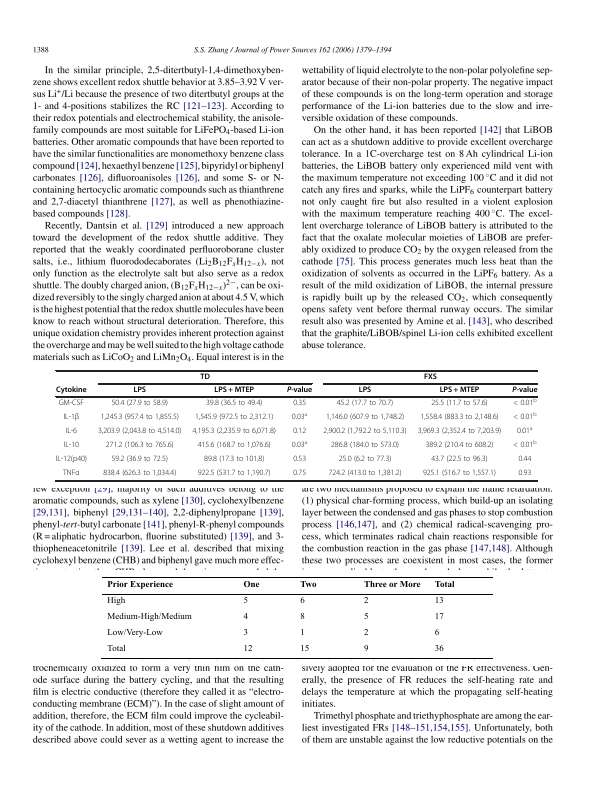borderless: (54, 369, 537, 480), (101, 575, 493, 658)
cell: (191, 427, 277, 437), (322, 427, 408, 437), (106, 612, 192, 622), (97, 427, 182, 437), (417, 427, 502, 437), (100, 413, 180, 423), (194, 413, 274, 423), (325, 413, 405, 423), (419, 413, 499, 423), (197, 441, 272, 451), (102, 469, 177, 479), (197, 469, 272, 479), (327, 469, 402, 479), (422, 469, 497, 479), (105, 441, 175, 451), (330, 441, 400, 451), (424, 441, 494, 451), (106, 579, 173, 589), (203, 455, 265, 465), (110, 399, 169, 409), (430, 399, 489, 409), (110, 455, 169, 465), (430, 455, 489, 465), (362, 579, 421, 589), (205, 399, 263, 409), (336, 399, 394, 409), (106, 628, 163, 638), (338, 455, 392, 465), (213, 386, 255, 396), (439, 386, 480, 396), (55, 455, 88, 465), (55, 386, 87, 396), (512, 398, 537, 409), (512, 412, 537, 423), (512, 440, 537, 451), (286, 386, 313, 396), (511, 386, 538, 396), (58, 399, 85, 409), (433, 579, 455, 589), (106, 596, 126, 606), (106, 644, 126, 654), (291, 412, 308, 423), (516, 426, 533, 437), (291, 440, 308, 451), (62, 413, 80, 423), (62, 469, 80, 479), (242, 579, 260, 589), (299, 579, 317, 589), (63, 441, 80, 451), (132, 386, 147, 396), (292, 399, 307, 409), (292, 427, 307, 437), (292, 455, 307, 465), (517, 455, 532, 465), (292, 469, 307, 479), (517, 469, 532, 479), (358, 386, 372, 396), (64, 427, 78, 437), (423, 373, 438, 382), (433, 596, 444, 606), (433, 612, 444, 622), (242, 644, 253, 654), (299, 644, 310, 654), (433, 644, 444, 654), (199, 373, 211, 382), (362, 596, 369, 606), (362, 612, 369, 622), (362, 628, 369, 638), (433, 628, 440, 638), (362, 644, 369, 654), (242, 596, 248, 606), (299, 596, 305, 606), (242, 612, 248, 622), (299, 612, 305, 622), (242, 628, 248, 638), (299, 628, 305, 638)
